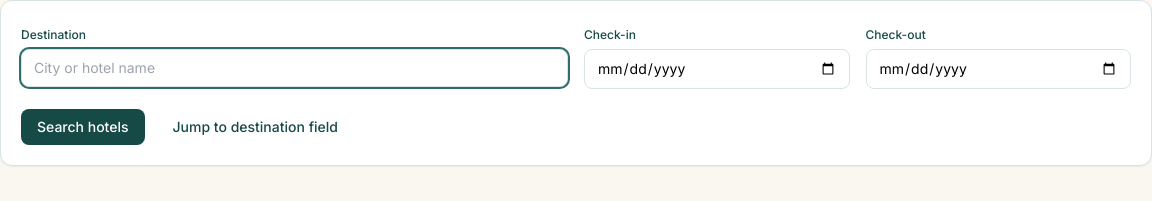
it: SearchBar needs a destination
Click the button "Search hotels": coordinates (83, 127) [21,109,144,145]
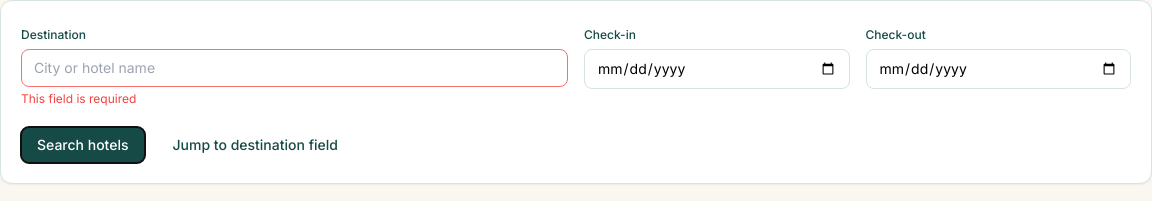
Expected: the text "This field is required" is shown, [21,91,136,106]
